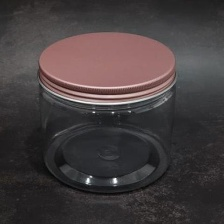plastic_box: (31, 26, 184, 201)
